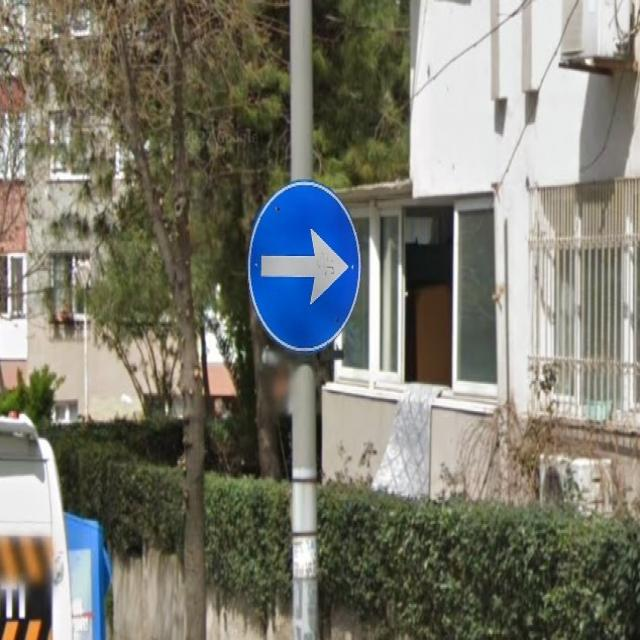Turn Right: (248, 183, 360, 357)
